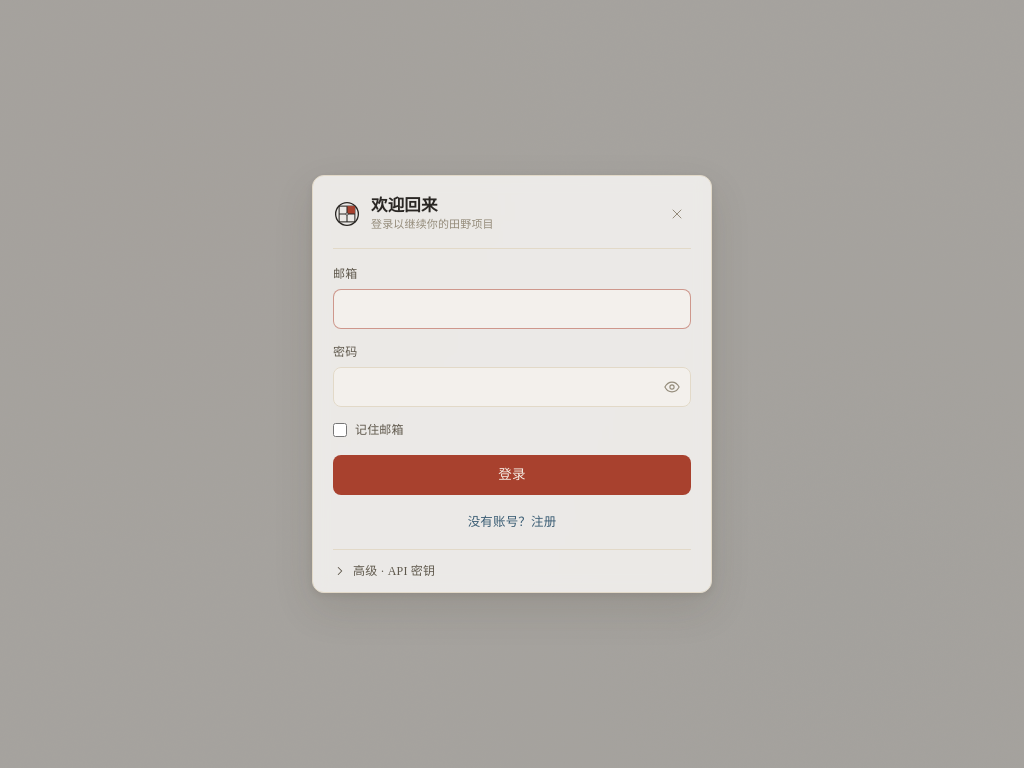
AuthDialog › 登录失败显示人话文案（detail.message），不透传 JSON 原文
Type "a@b.com" into the field labelled "邮箱" at {"x": 512, "y": 309}, box [334,290,690,328]
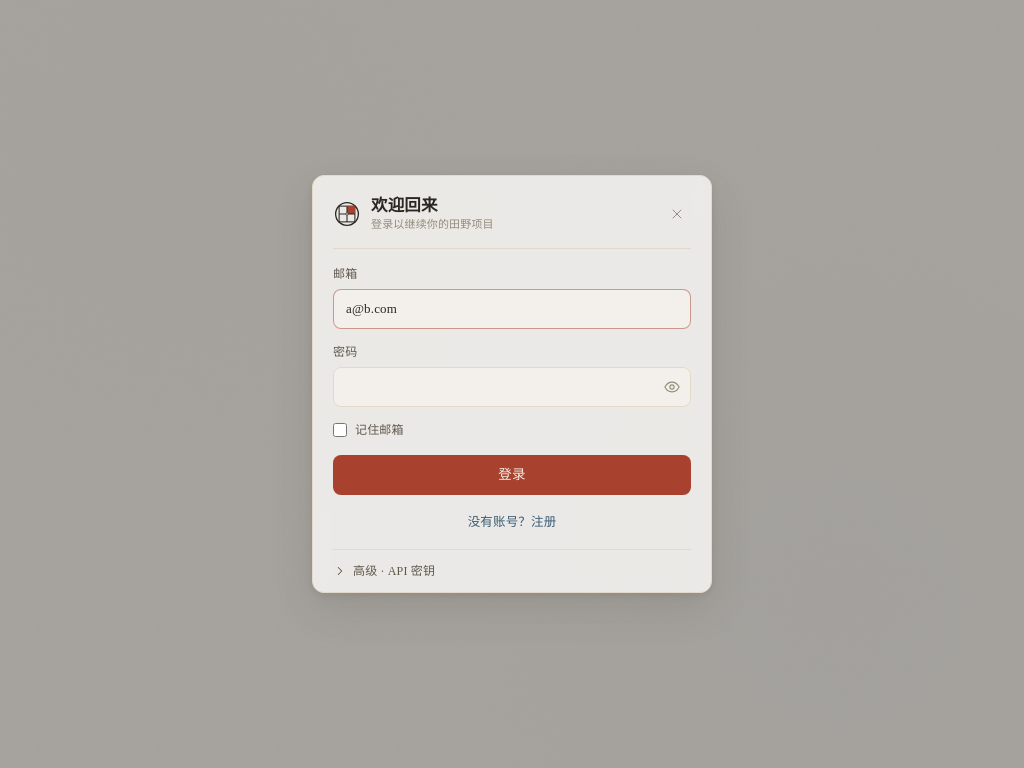
Type "wrong-pass" into the password field labelled "密码" at {"x": 494, "y": 387}, box [334,368,654,406]
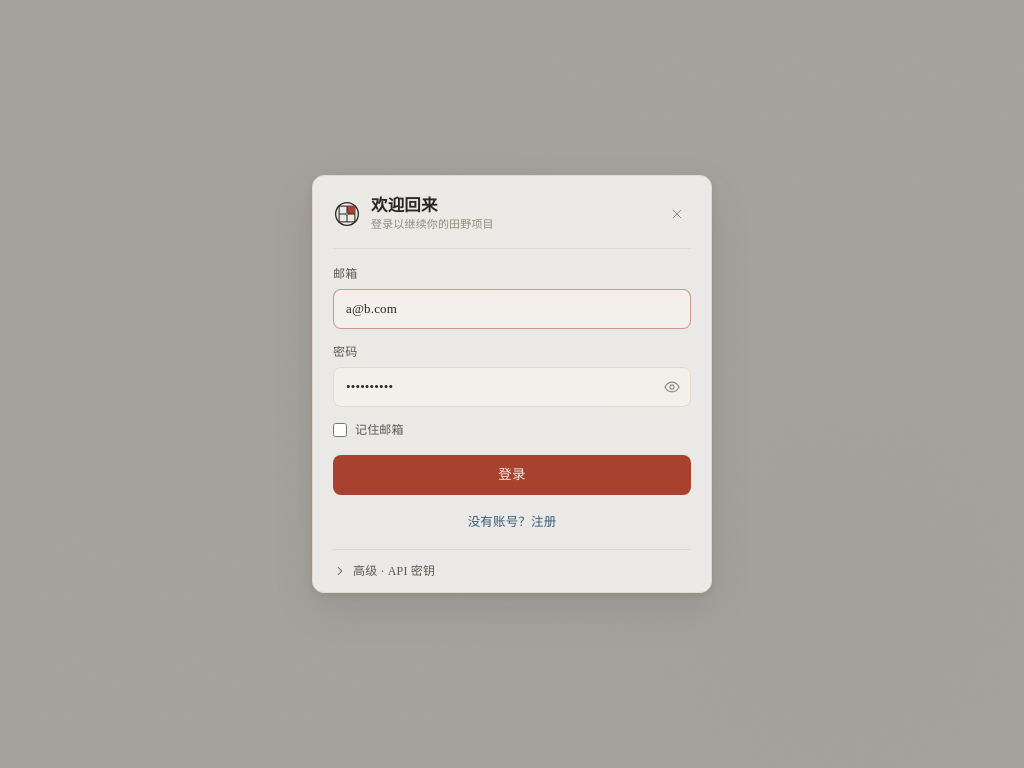
Click the button "登录" at {"x": 512, "y": 475}, box [333,455,691,495]
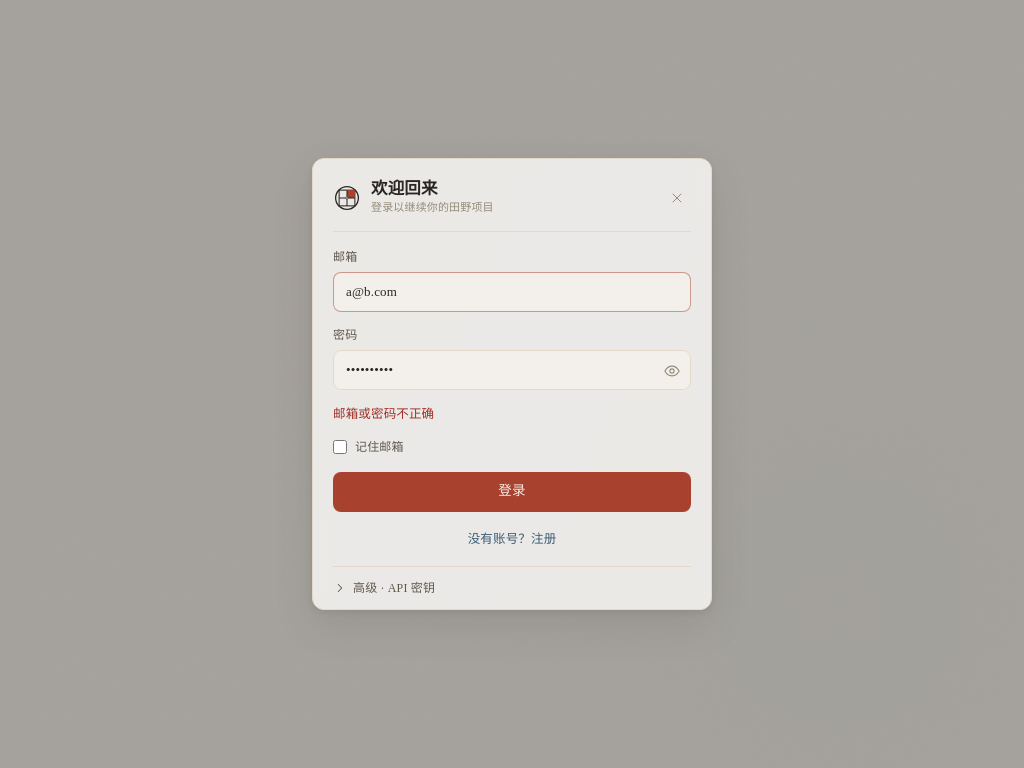
Expected: the message does not show "{", [333,407,434,421]
Result: the message reads "邮箱或密码不正确" at [333,407,434,421]
